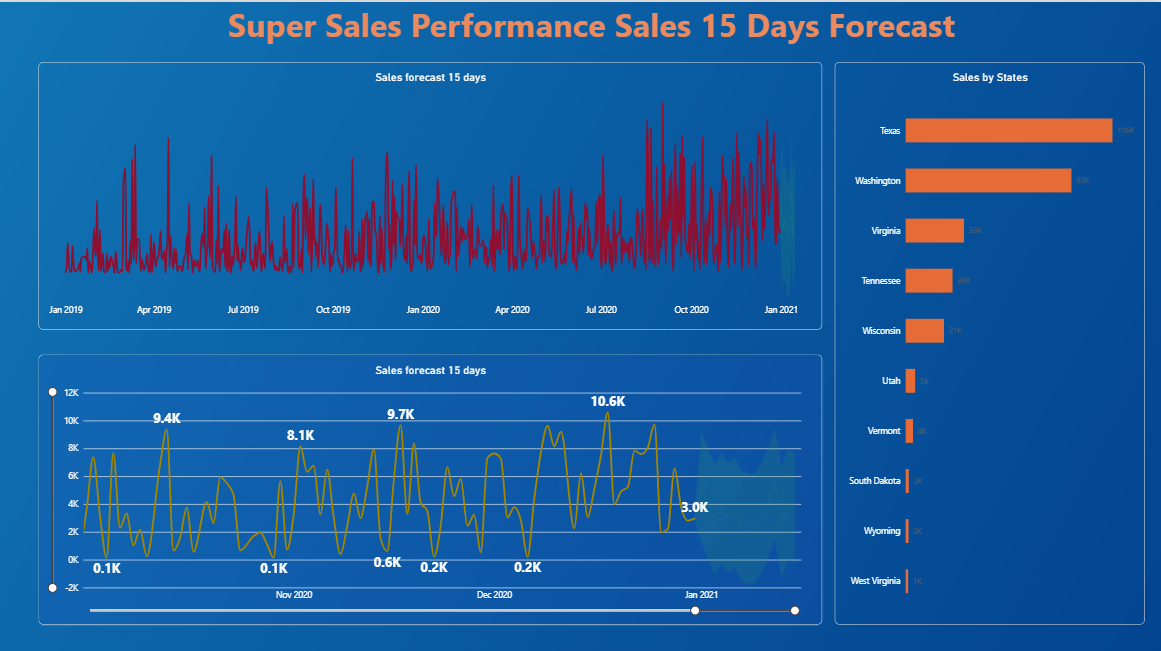

What the dashboard file says about the page in this screenshot:
{"tool":"powerbi","page":{"name":"Page 2","canvas":[1920,1080],"ordinal":1},"visuals":[{"type":"lineChart","title":"Sales forecast 15 days","fields":{"Y":["Sum(SuperStore_Sales_Dataset.Sales)"],"Category":["SuperStore_Sales_Dataset.Order Date"]},"box":[70,98.8,1290.6,440.5],"z":0},{"type":"lineChart","title":" Sales forecast 15 days ","fields":{"Y":["Sum(SuperStore_Sales_Dataset.Sales)"],"Category":["SuperStore_Sales_Dataset.Order Date"]},"box":[70,580.4,1290.6,444.6],"z":1000},{"type":"clusteredBarChart","title":"Sales by States","fields":{"Category":["SuperStore_Sales_Dataset.State"],"Y":["Sum(SuperStore_Sales_Dataset.Sales)"]},"box":[1381.1,98.8,510.5,926.2],"z":2000},{"type":"textbox","box":[70,0,1821.6,98.8],"z":3000}]}

Visuals, with their boxes in screenshot pixels (x1, y1, x2, y2), scaled from the page's 1920x1080 canvas onto the 1161x651 screenshot:
"Sales forecast 15 days" lineChart: [x1=42, y1=60, x2=823, y2=325]
" Sales forecast 15 days " lineChart: [x1=42, y1=350, x2=823, y2=618]
"Sales by States" clusteredBarChart: [x1=835, y1=60, x2=1144, y2=618]
textbox: [x1=42, y1=0, x2=1144, y2=60]
